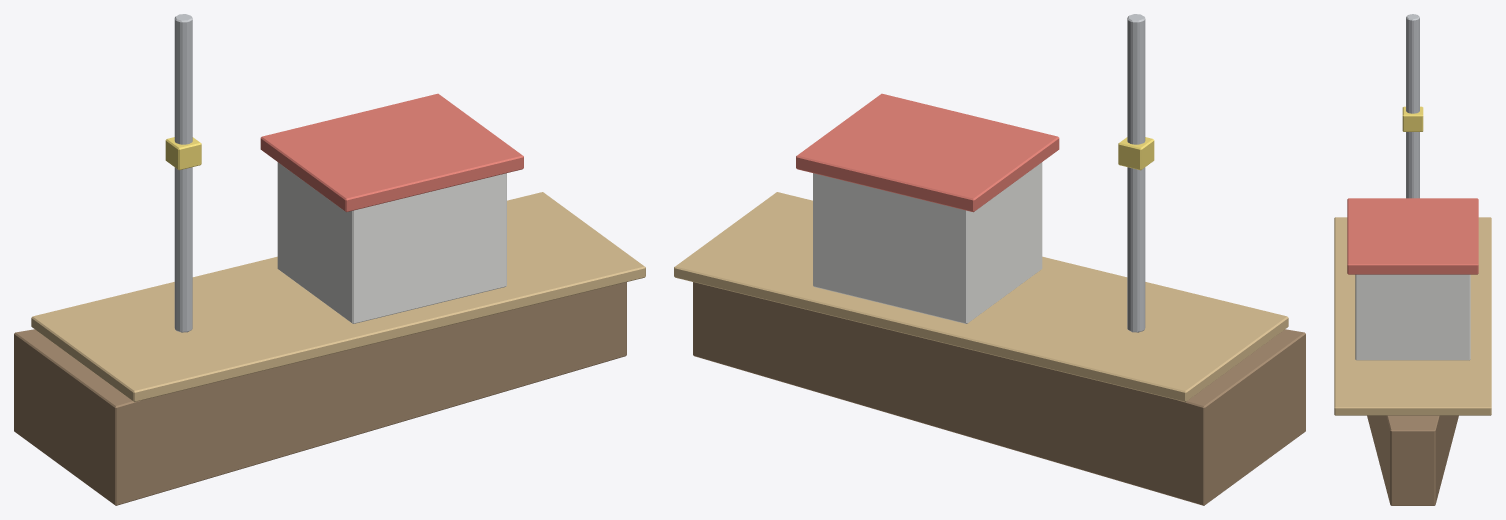
The picture shows the model from 3 angles, left to right: view 1: azimuth 30°, elevation 25°; view 2: azimuth 150°, elevation 25°; view 3: azimuth 270°, elevation 25°; orthographic projection. The views are drawn at different scales.
Visible parts, largest first — view 1: 船体.001, 甲板, 船舱, 舱顶, 桅杆.001, 渔灯; view 2: 船体.001, 甲板, 船舱, 舱顶, 桅杆.001, 渔灯; view 3: 甲板, 舱顶, 船舱, 船体.001, 桅杆.001, 渔灯.
Boxes of the visible parts, x1,y1,x2,y2 form: 船体.001: (14, 282, 626, 505); 甲板: (31, 192, 645, 401); 船舱: (277, 162, 506, 323); 舱顶: (260, 93, 523, 212); 桅杆.001: (174, 14, 192, 332); 渔灯: (165, 137, 201, 170); 船体.001: (693, 282, 1305, 505); 甲板: (674, 192, 1288, 401); 船舱: (813, 162, 1042, 323); 舱顶: (796, 93, 1059, 212); 桅杆.001: (1127, 14, 1145, 332); 渔灯: (1118, 137, 1154, 170); 甲板: (1334, 217, 1491, 415); 舱顶: (1347, 198, 1478, 274); 船舱: (1355, 274, 1470, 360); 船体.001: (1367, 415, 1458, 505); 桅杆.001: (1406, 14, 1419, 198); 渔灯: (1402, 106, 1423, 131).
Size of the model in its own units: 920 by 694 by 300.
